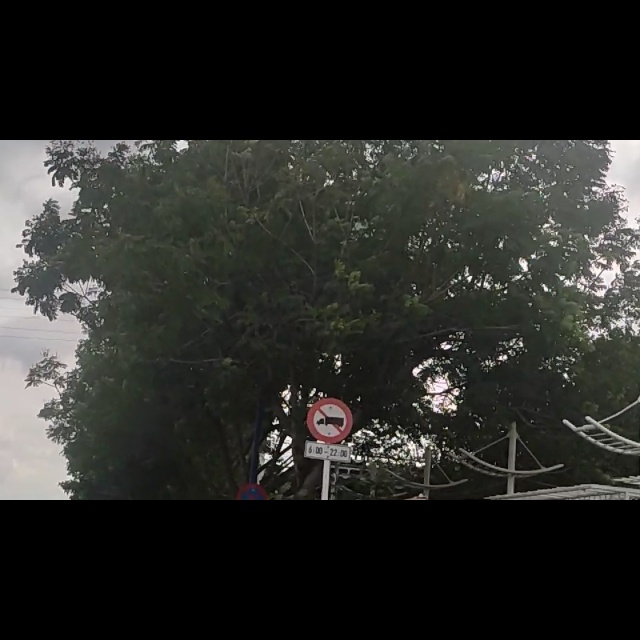bien_cam: (309, 463, 351, 567)
